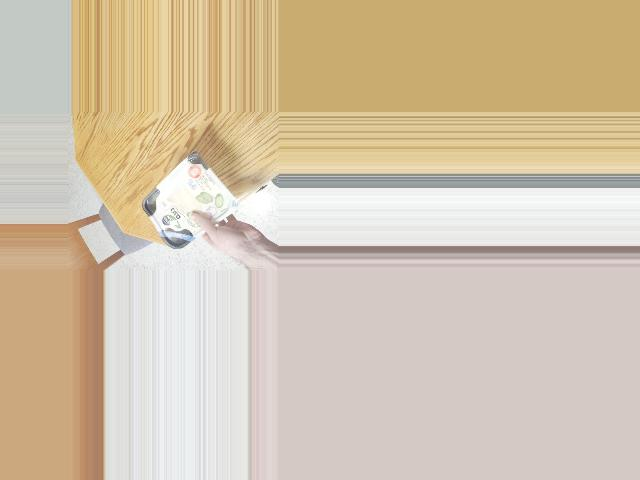cheese: (140, 163, 222, 241)
